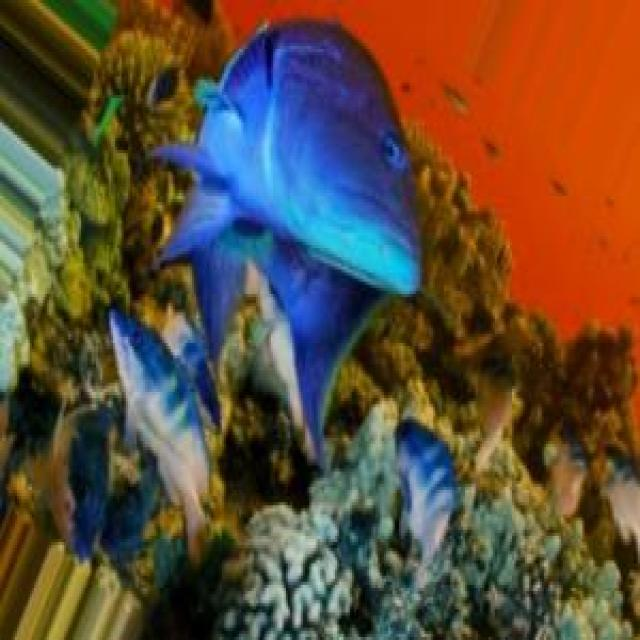Healthy: (455, 482, 620, 640), (219, 506, 357, 640)
